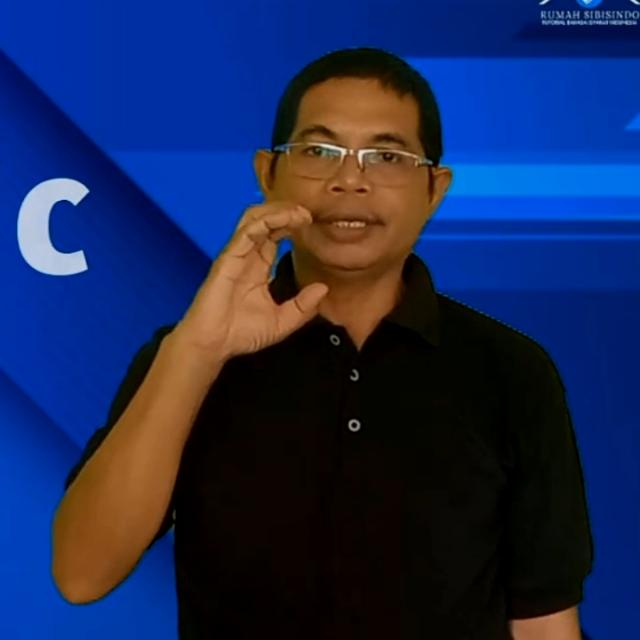C: (183, 198, 329, 364)
